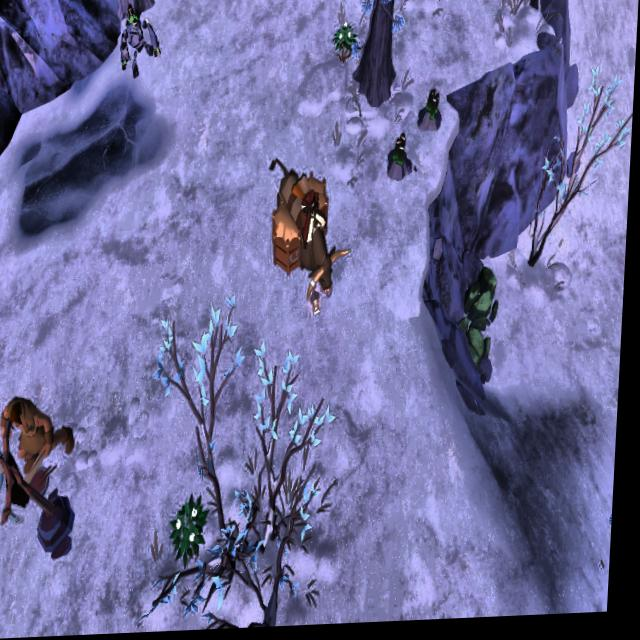enemy_factionKeeper: (4, 393, 79, 480)
fiber_t3: (172, 494, 214, 568), (333, 23, 363, 62)
ore_t3: (393, 133, 411, 169), (427, 86, 443, 122)
rock_t3: (464, 269, 507, 329), (454, 322, 500, 377)
